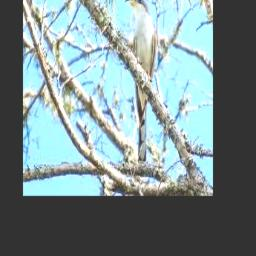Cuckoo: (126, 0, 157, 167)
